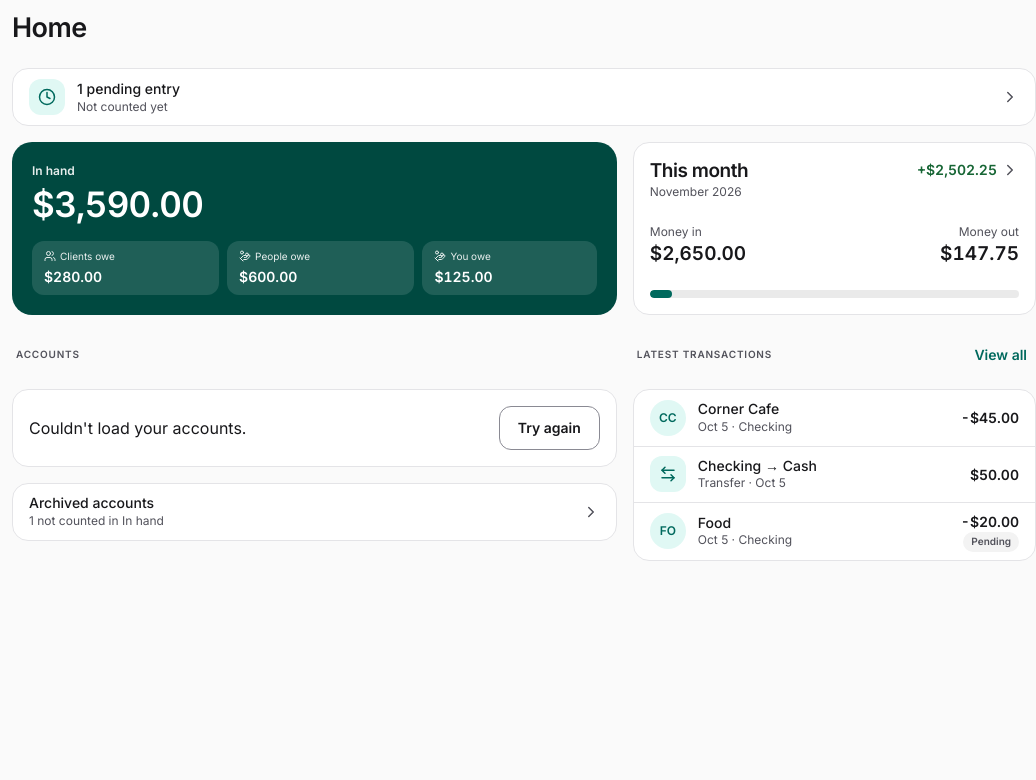
Test: Home › accounts › says it could not load the accounts, and tries again
Check: the message reads "Couldn't load your accounts.", box [29, 418, 246, 438]
Click the button "Try again": x=549, y=428 [499, 406, 600, 450]
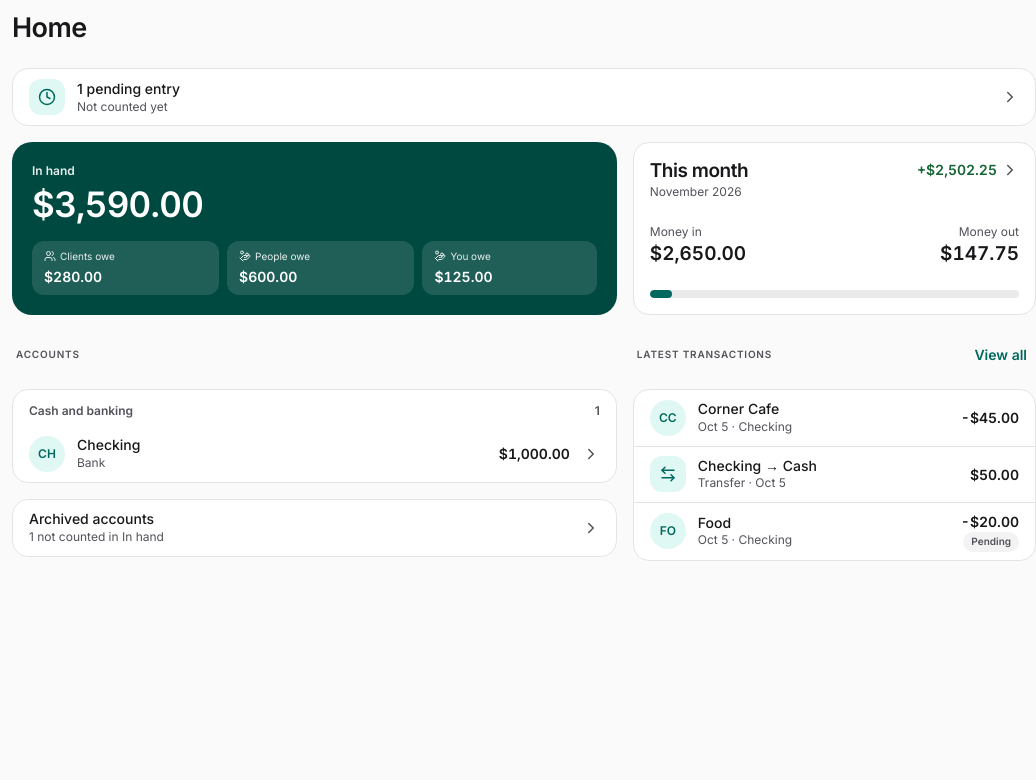
Check: the text "Checking" is shown, box [77, 436, 140, 453]
